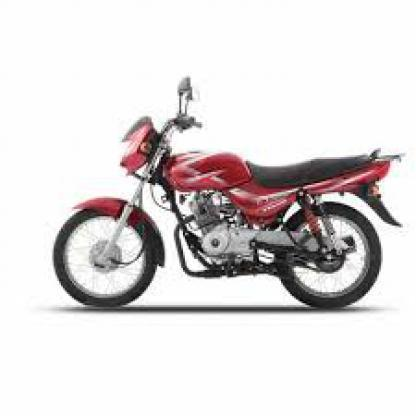Motorcycle: (42, 58, 413, 317)
